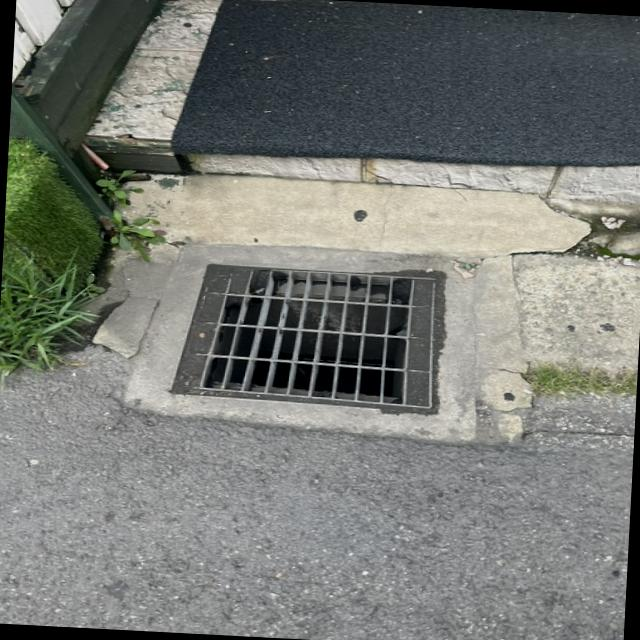drain_area: (202, 271, 408, 405)
drain_full: (177, 265, 435, 408)
